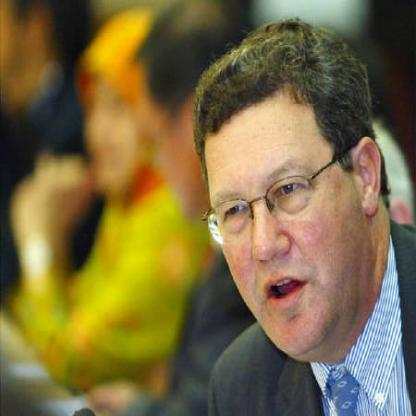face: (198, 52, 364, 364)
